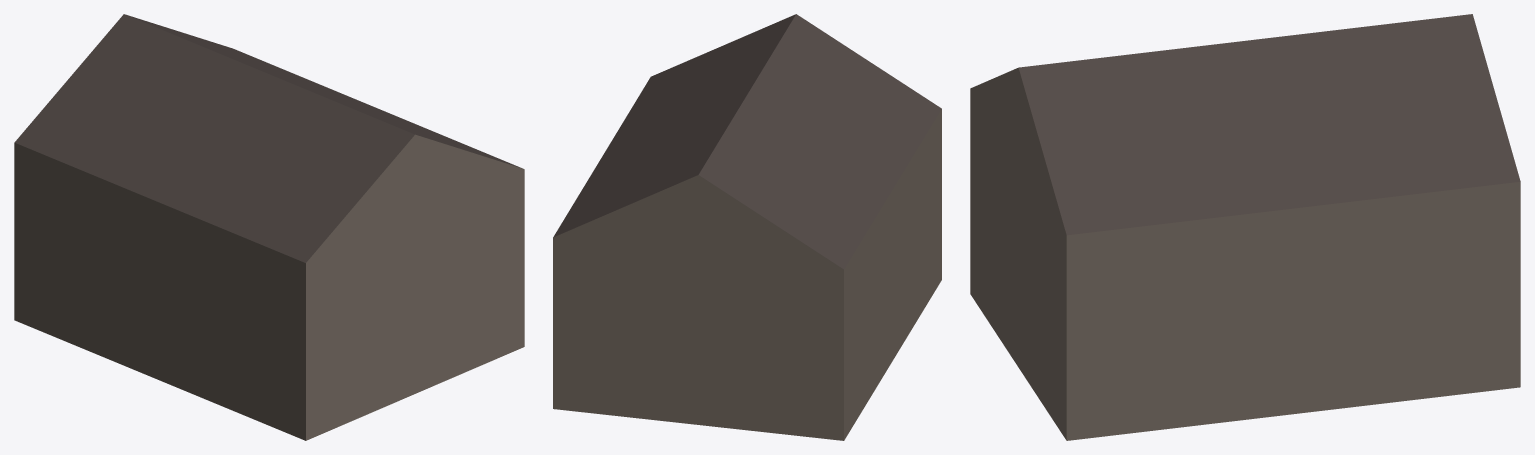
The picture shows the model from 3 angles, left to right: view 1: azimuth 30°, elevation 25°; view 2: azimuth 150°, elevation 25°; view 3: azimuth 270°, elevation 25°; orthographic projection. The views are drawn at different scales.
Visible parts, largest first — view 1: HP-w859447886; view 2: HP-w859447886; view 3: HP-w859447886.
Boxes of the visible parts, x1,y1,x2,y2 form: HP-w859447886: [14, 14, 524, 440]; HP-w859447886: [553, 14, 941, 440]; HP-w859447886: [970, 14, 1520, 440].
Bounding box in the file's own units: 12.55 × 8.75 × 14.56.
